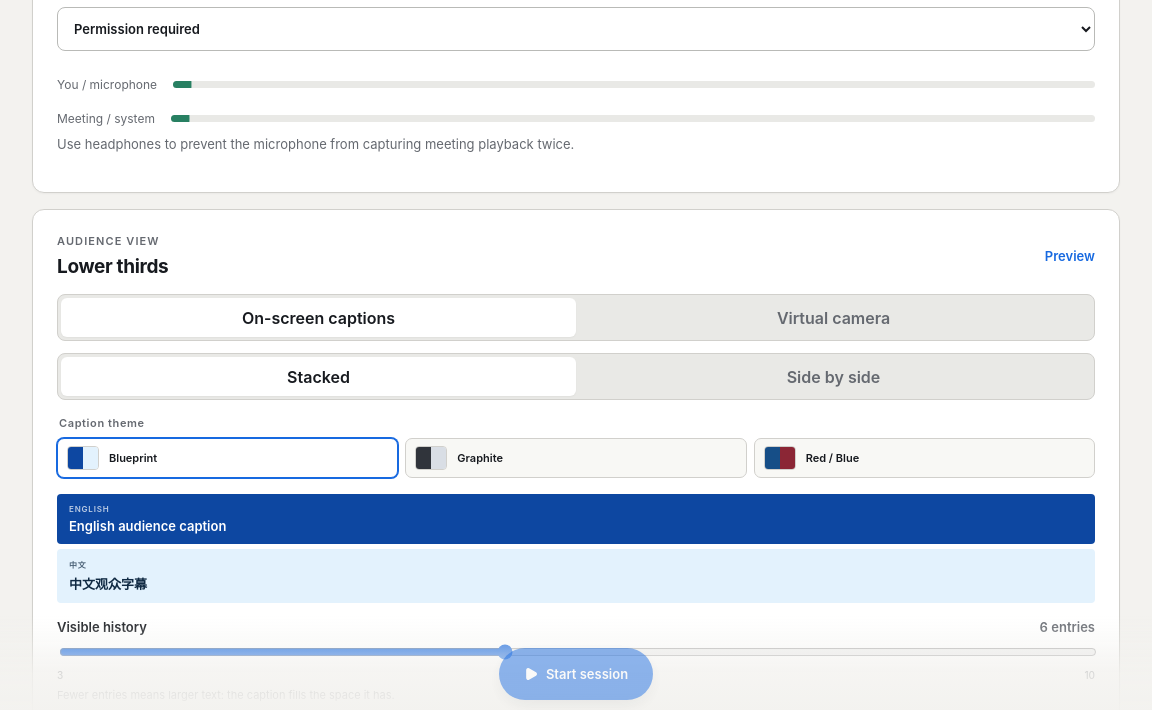
meeting caption controls › explains that virtual camera is a caption output, not an audio source
The width and height of the screenshot is (1152, 710).
(page scrolled)
Expected: the button "Start session" is shown, top-left (499, 648), bottom-right (653, 700)
Click the button "Virtual camera" at [834, 318], box top-left (576, 298), bottom-right (1091, 337)
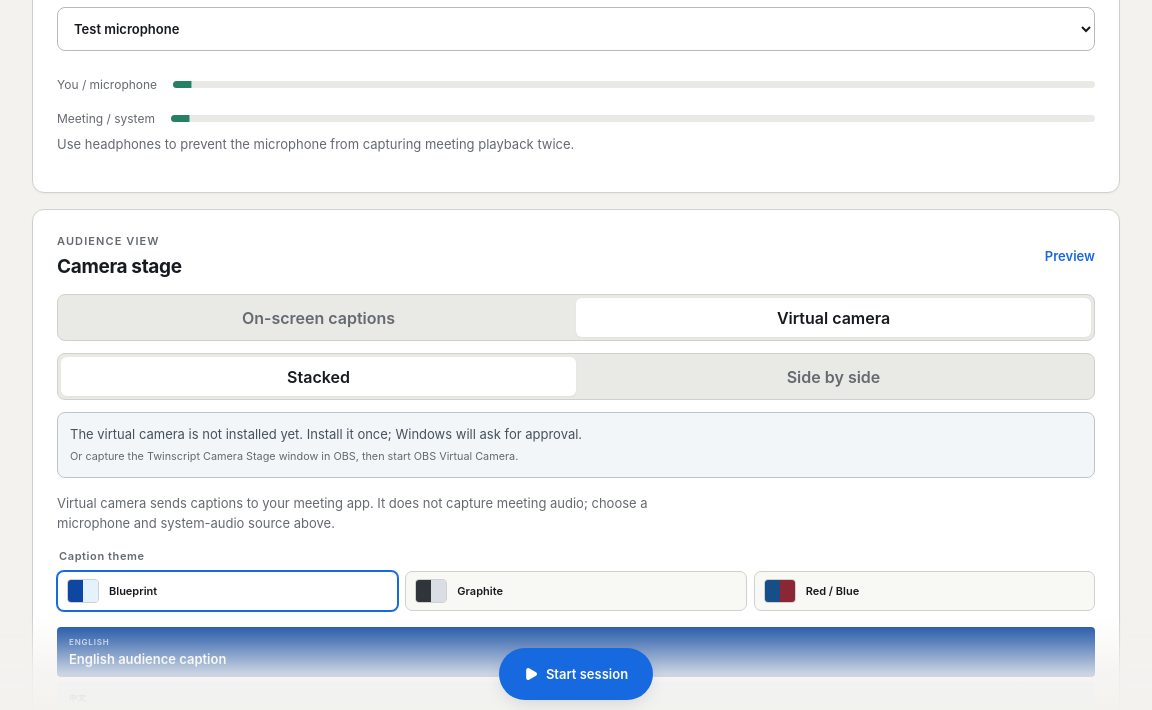
Now the text "Virtual camera sends captions to your meeting app. It does not capture meeting audio" is shown, box top-left (57, 495), bottom-right (648, 531)
